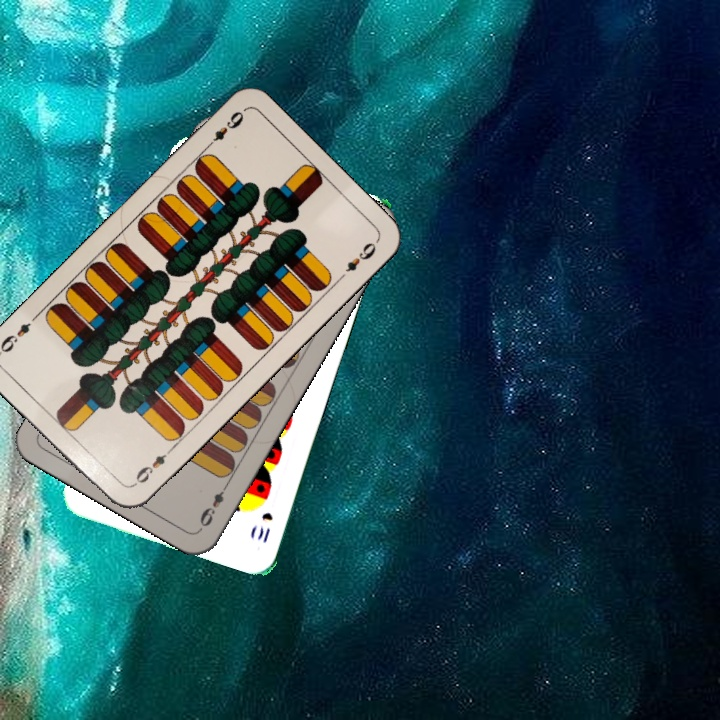E9: (127, 444, 176, 489), (201, 107, 246, 152), (195, 478, 232, 532)
S10: (253, 508, 276, 546)
